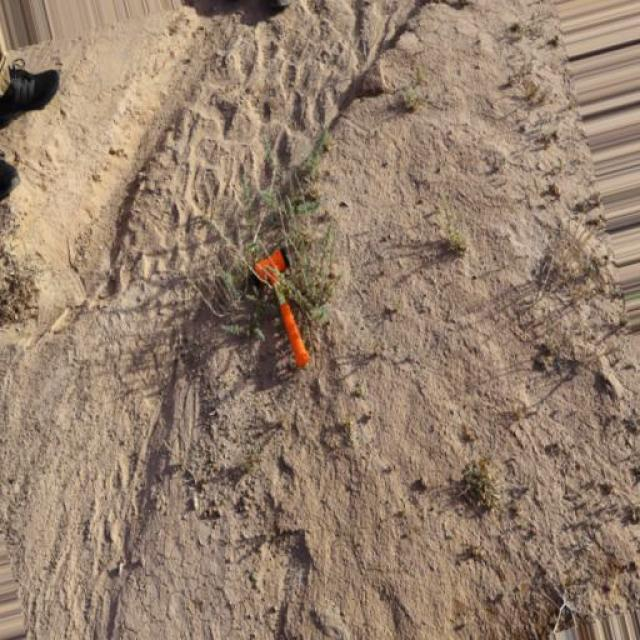mallet: (252, 246, 312, 369)
